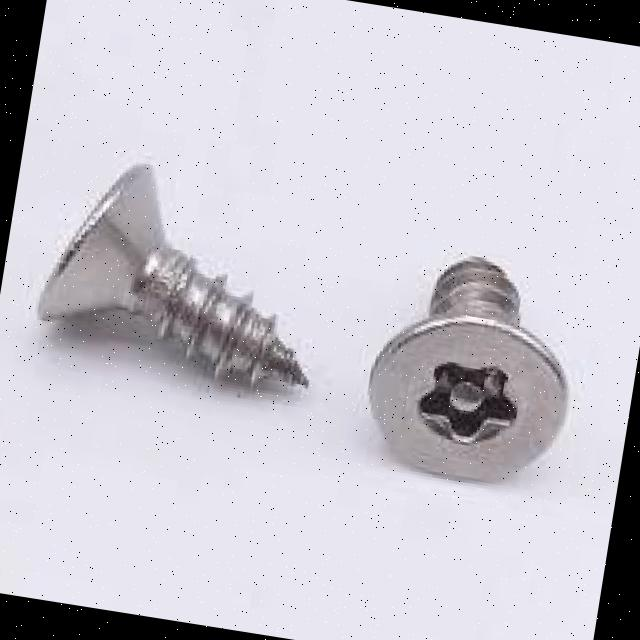Torx: (356, 303, 580, 496)
